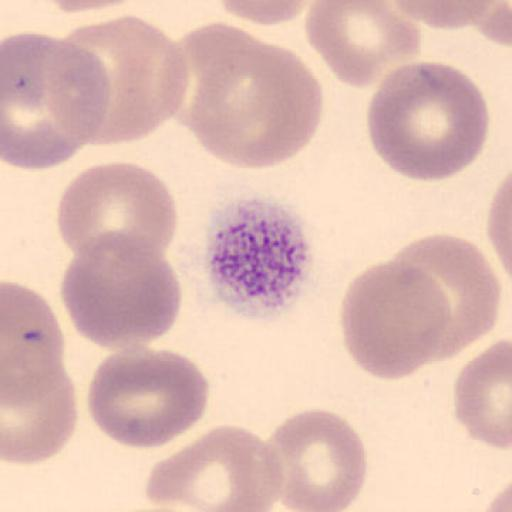Platelet: (202, 193, 320, 322)
RBC: (176, 22, 324, 168), (60, 16, 190, 146), (59, 226, 183, 350), (0, 32, 110, 170), (366, 61, 490, 183), (388, 234, 502, 364), (338, 258, 454, 381), (0, 278, 74, 467), (56, 160, 179, 265), (141, 423, 286, 512), (87, 346, 210, 450), (265, 406, 369, 512), (304, 0, 423, 89), (2, 356, 78, 466), (2, 279, 66, 406), (34, 35, 112, 138), (452, 338, 512, 449), (388, 0, 498, 31), (486, 171, 512, 286), (216, 0, 316, 27), (469, 1, 512, 47), (45, 0, 138, 14), (482, 476, 512, 512)
